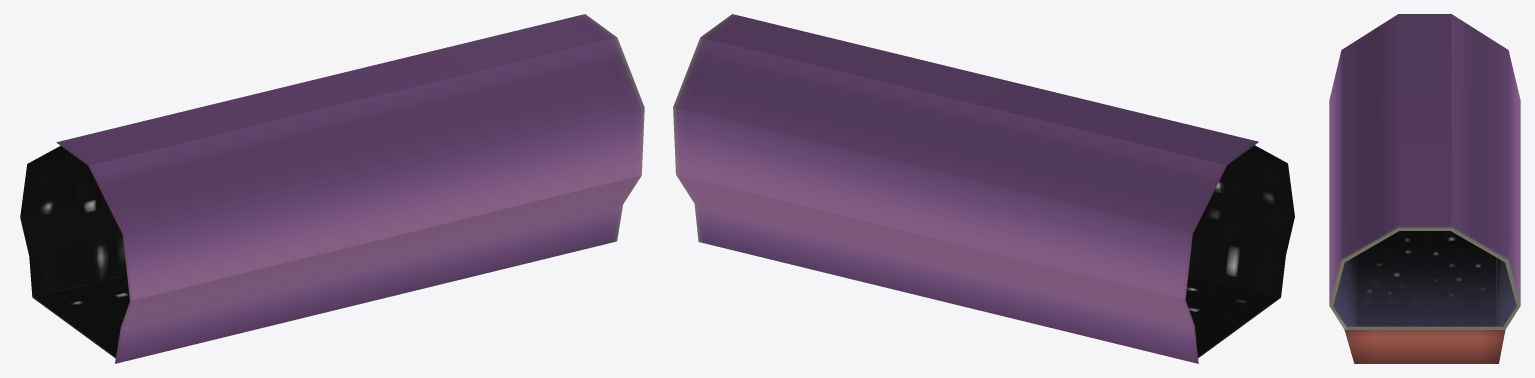
The model's file is booth01.glb.
3 renders of one model, left to right at view 1: azimuth 30°, elevation 25°; view 2: azimuth 150°, elevation 25°; view 3: azimuth 270°, elevation 25°, orthographic. The views are drawn at different scales.
Visible parts, largest first — view 1: booth01; view 2: booth01; view 3: booth01.
Boxes of the visible parts, box(x1,y1,x2,y2) form: booth01: box(20, 14, 644, 363); booth01: box(673, 14, 1294, 363); booth01: box(1329, 14, 1520, 363).
Bounding box in the file's own units: 1985 × 640 × 752.
2 materials, 2 textured.
